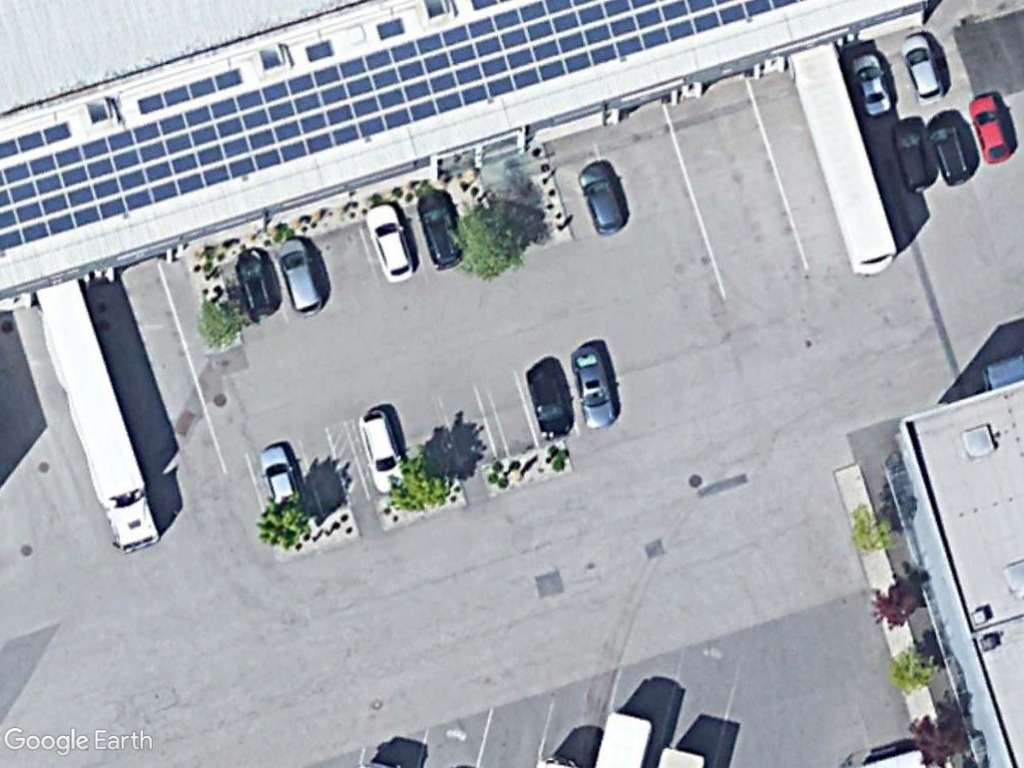car: (270, 235, 328, 320), (358, 408, 409, 495), (888, 115, 939, 200), (575, 162, 630, 240), (412, 187, 463, 271), (523, 363, 575, 445), (569, 345, 618, 431), (365, 201, 415, 285), (965, 94, 1016, 166), (928, 115, 975, 191), (901, 31, 944, 108), (850, 50, 896, 121), (234, 248, 278, 322)
longvehicle: (38, 285, 164, 555)
